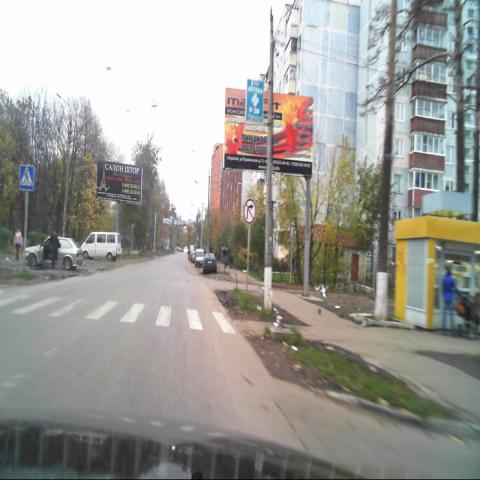3_18: (244, 198, 255, 225)
